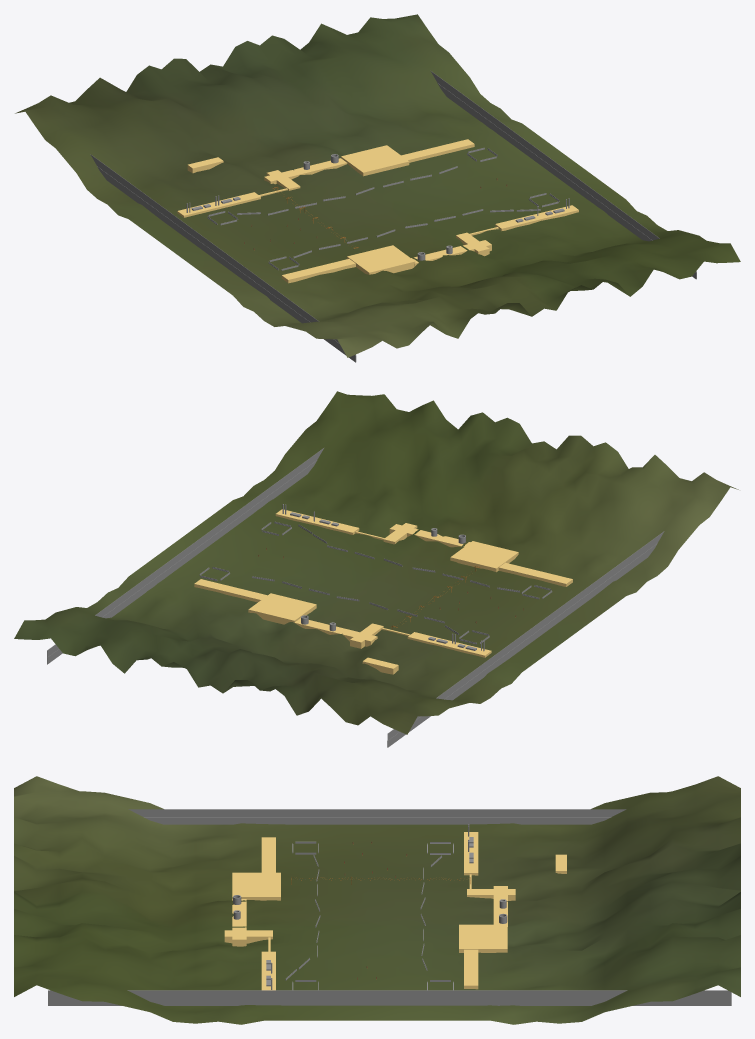
Rendered from WaynesWorld.obj.
The picture shows the model from 3 angles, top to bottom: view 1: azimuth 30°, elevation 25°; view 2: azimuth 150°, elevation 25°; view 3: azimuth 270°, elevation 25°; orthographic projection. The views are drawn at different scales.
Parts seen in each view (by area): view 1: ground Box16; view 2: ground Box16; view 3: ground Box16.
Part boxes in pixels (x1=…): ground Box16: x1=15, y1=14, x2=740, y2=362; ground Box16: x1=14, y1=391, x2=738, y2=747; ground Box16: x1=14, y1=776, x2=740, y2=1024.
Bounding box in the file's own units: 2241 × 241 × 3292.
Materials: 6 (1 with a texture image).
